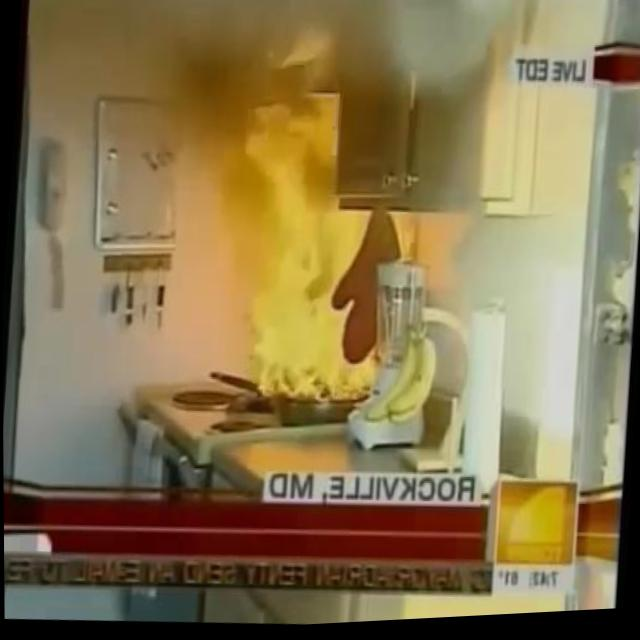fire: (216, 23, 418, 416)
